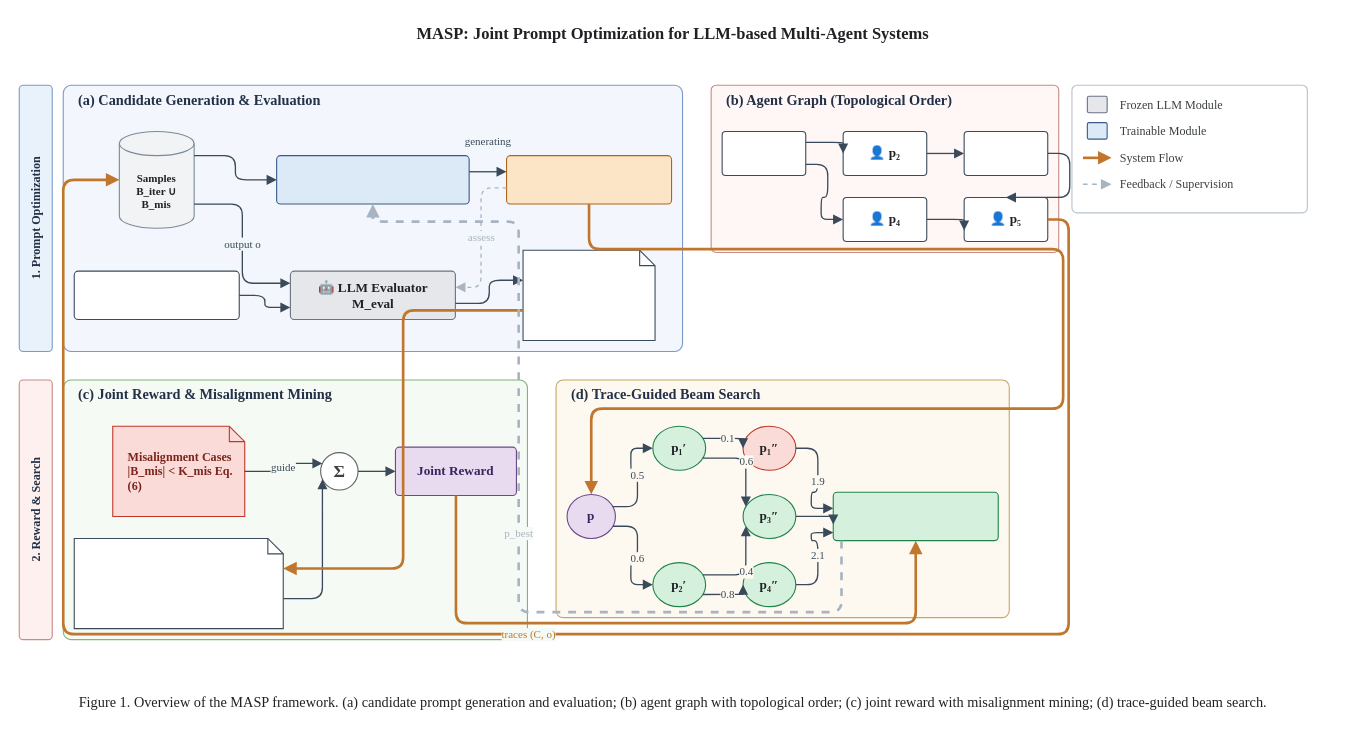
This 1345x730 diagram has some shape labels left out. Each missing label, with the centre of its shape:
"Candidate Prompts P_cand = {p₁′, p₂′, …}" belongs at pixel 588 179.
"Local ✓ Lookahead ✓ Global ✗" belongs at pixel 588 294.
"Query q / Context C" belongs at pixel 156 295.
"R(p′,p;B_iter) = α·R_loc + β·R_look + θ·R_glob Eq.(5)" belongs at pixel 178 583.
"Top-K Beam (accumulated joint reward)" belongs at pixel 915 516.
"👤 p₁" belongs at pixel 763 152.
"👤 p₃" belongs at pixel 1005 152.
"🤖 Prompt Optimizer M_opt" belongs at pixel 372 179.
